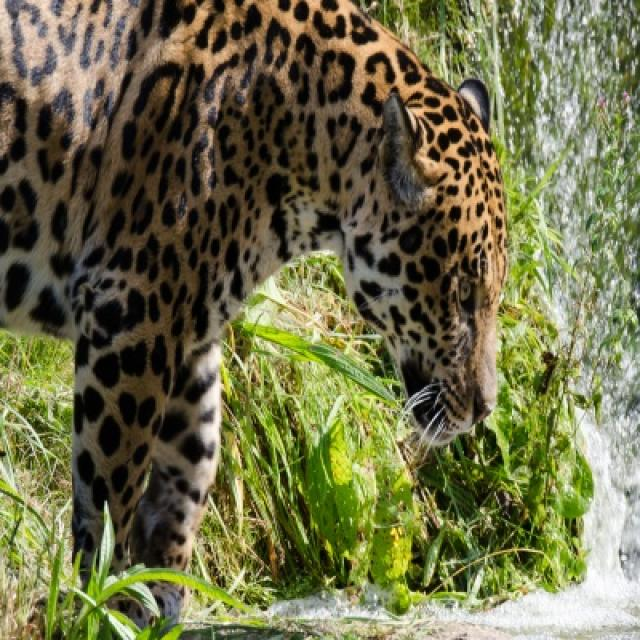Jaguar: (0, 0, 510, 578)
